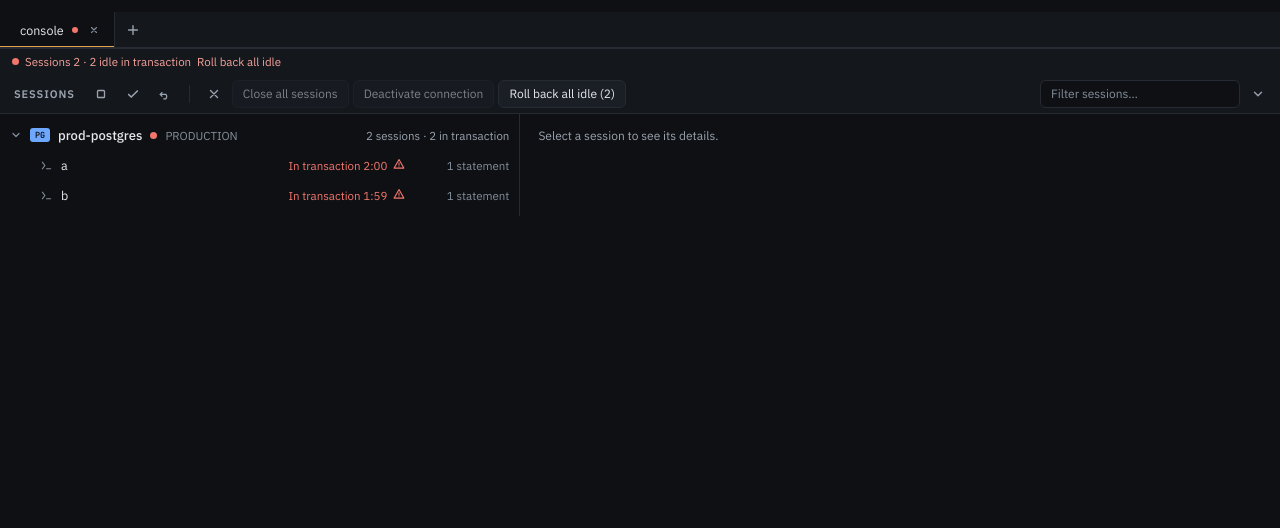
it: idle-in-transaction flag (spec: session-manager › Idle-in-transaction warnings) › shows on the row, the tab and the status bar item
The width and height of the screenshot is (1280, 528).
Expected: the button "Sessions 2 · 2 idle in transaction" is shown, [12, 54, 191, 69]
Expected: the number of pictures named "Idle in transaction" is 2, [393, 158, 405, 172]; [393, 188, 405, 202]
# the explanation of the impact is in the details pane
What coordinates should you click on to do the following:
click the list item "a In transaction 2:00 1 statement"
I would click on:
 (338, 165)
Its box is [40, 157, 509, 173].
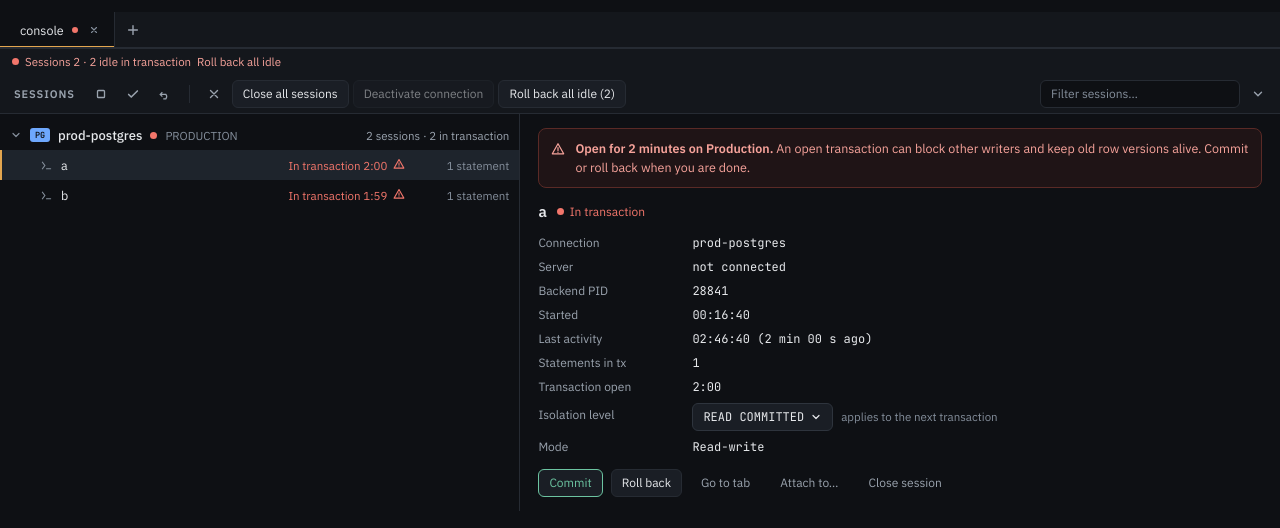
Result: the message shows "block other writers" at [575, 140, 1248, 175]
Result: the message shows "on Production" at [686, 140, 770, 156]
